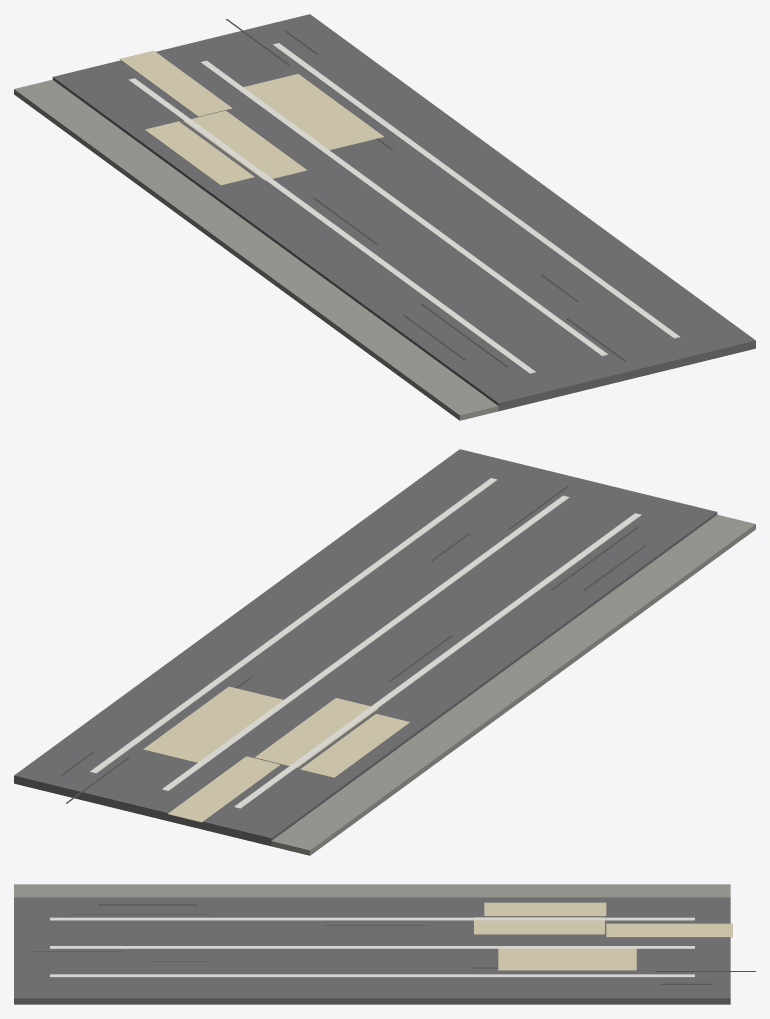
File: Track_Cracked.glb
The picture shows the model from 3 angles, top to bottom: view 1: azimuth 30°, elevation 25°; view 2: azimuth 150°, elevation 25°; view 3: azimuth 270°, elevation 25°; orthographic projection. The views are drawn at different scales.
Bounding box in the file's own units: 11.5 × 0.32 × 31.05.
